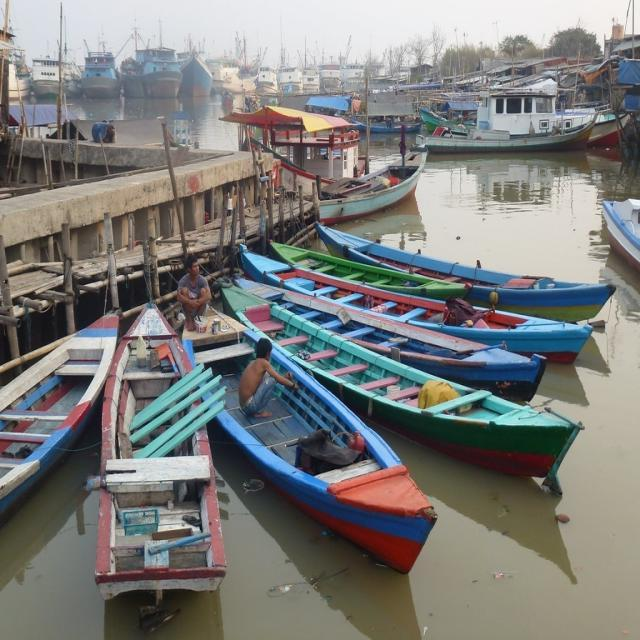boat: (98, 306, 229, 592), (420, 76, 596, 160), (304, 152, 443, 225)
